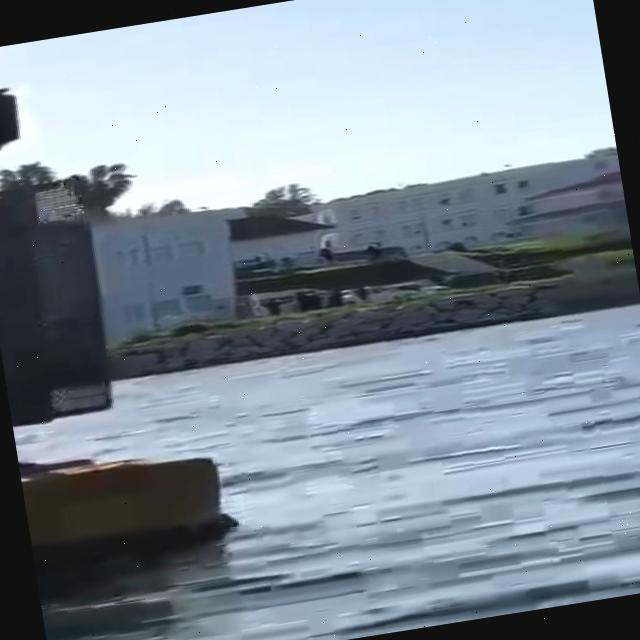marque: (1, 22, 243, 567)
